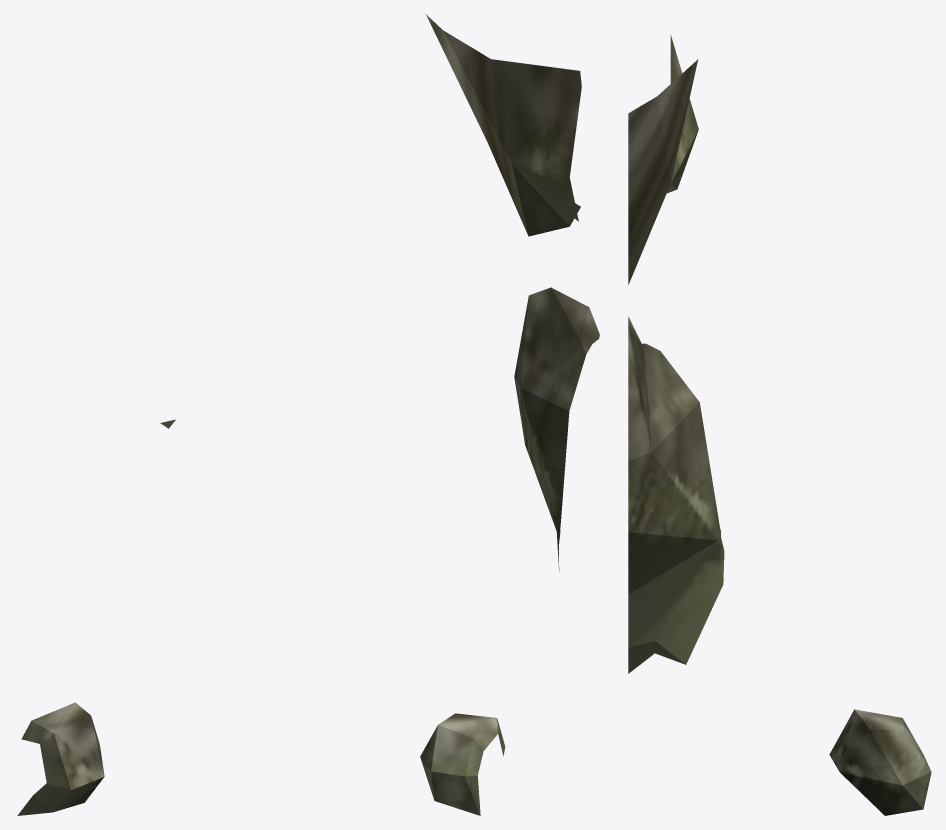
The picture shows the model from 3 angles, left to right: view 1: azimuth 30°, elevation 25°; view 2: azimuth 150°, elevation 25°; view 3: azimuth 270°, elevation 25°; orthographic projection. The views are drawn at different scales.
Size of the model in its own units: 0.4409 by 1.63 by 0.5686.
Materials: 1 (1 with a texture image).
